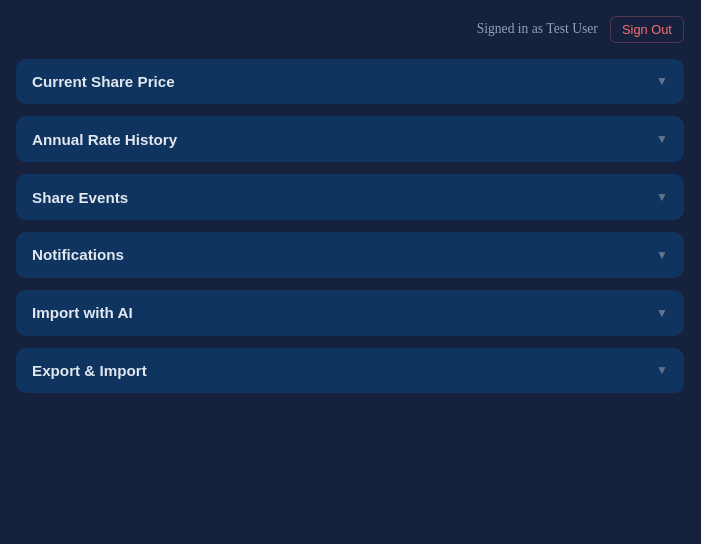
SettingsTab › shows enable notifications button when permission is not granted
Click the text "Notifications": (78, 255) [32,246,124,263]
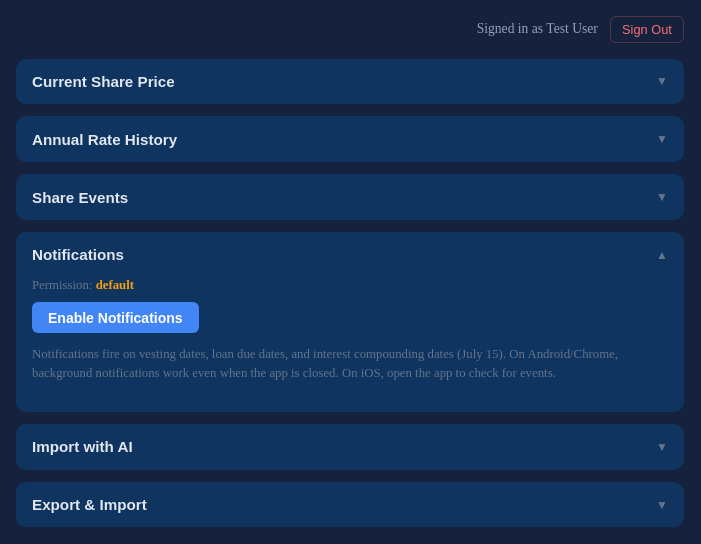
Now the button with test id "enable-notifications-btn" is shown, box [32,302,199,333]
